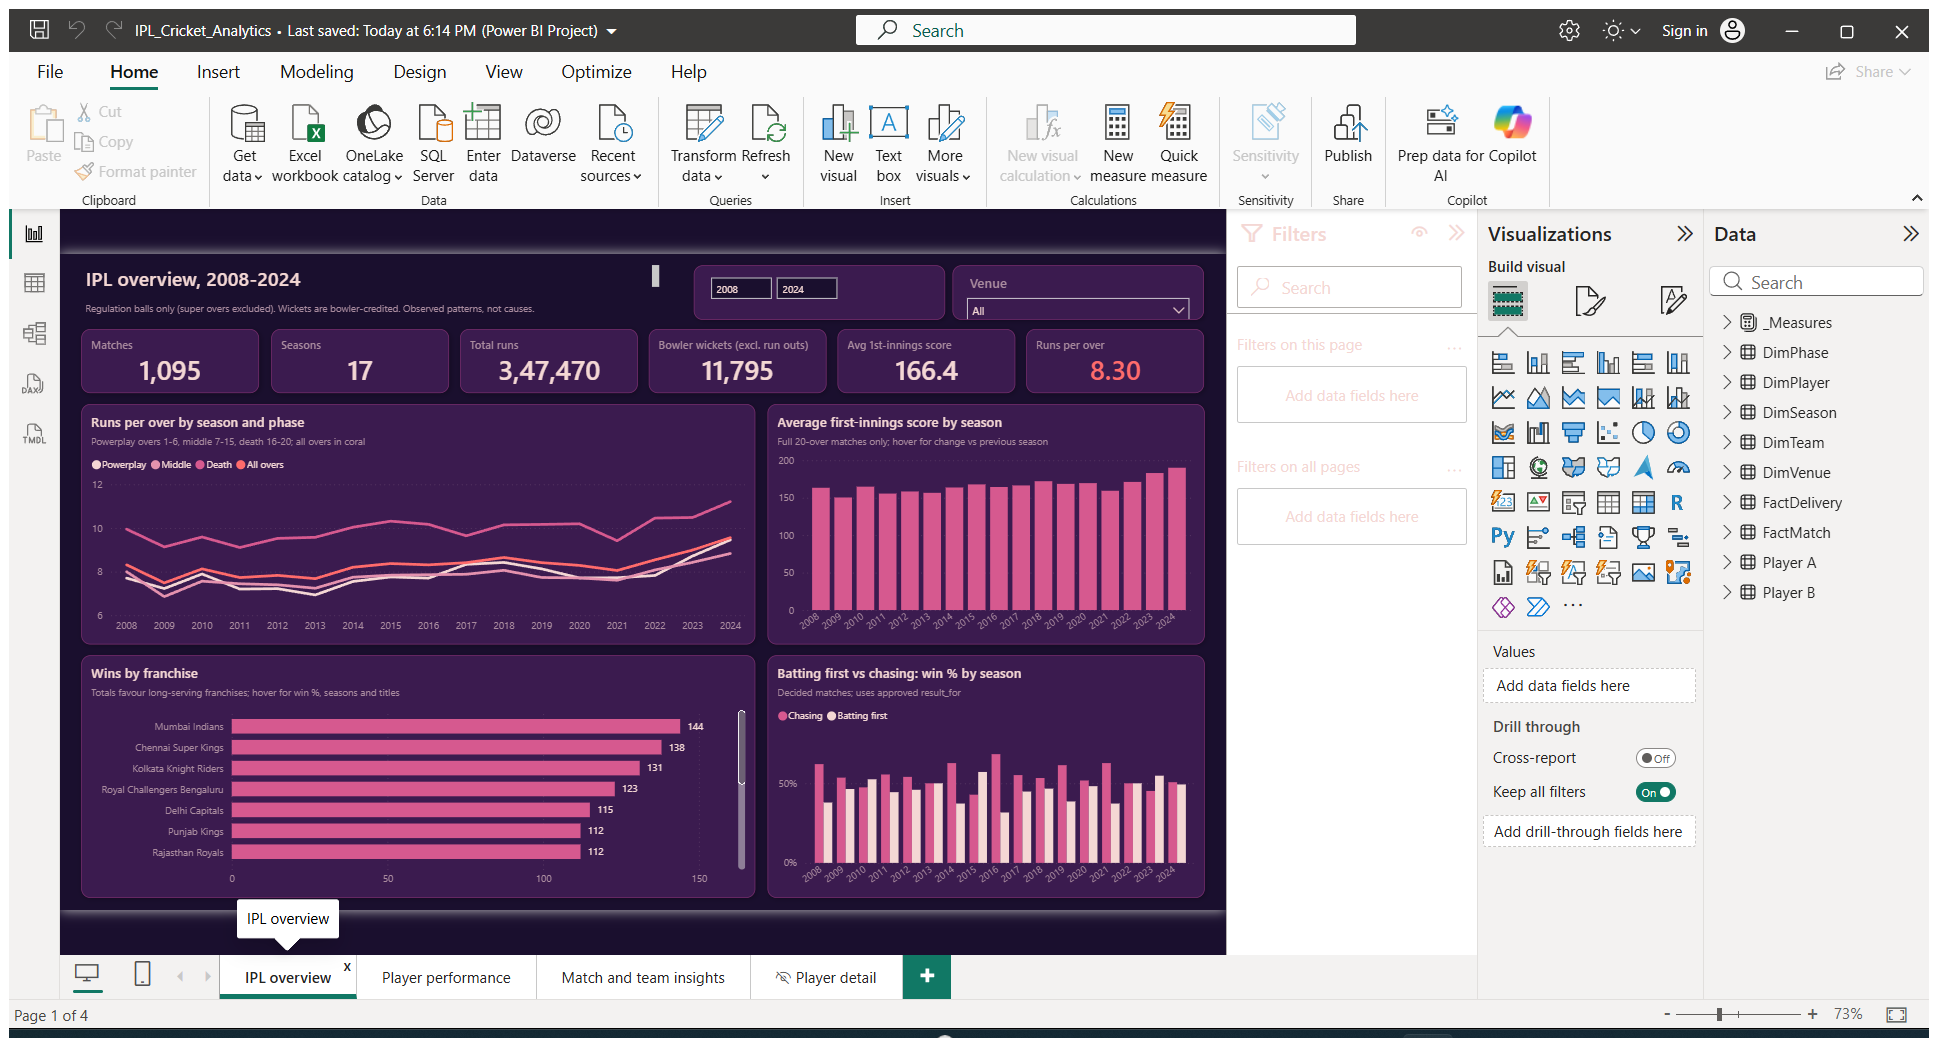

Layout of this report page (visuals, bound fields, positions):
{"tool":"powerbi","page":{"name":"IPL overview","canvas":[1280,720],"ordinal":0},"visuals":[{"type":"textbox","box":[18,4,650,42],"z":100},{"type":"textbox","box":[18,42,664,34],"z":200},{"type":"slicer","fields":{"Values":["DimSeason.Season"]},"box":[696,12,276,60],"z":300},{"type":"slicer","fields":{"Values":["DimVenue.Venue"]},"box":[980,12,276,60],"z":400},{"type":"card","title":"Matches","fields":{"Values":["_Measures.Matches"]},"box":[24,82,195.3,70],"z":500},{"type":"card","title":"Seasons","fields":{"Values":["_Measures.Seasons"]},"box":[231.3,82,195.3,70],"z":600},{"type":"card","title":"Total runs","fields":{"Values":["_Measures.Total Runs"]},"box":[438.7,82,195.3,70],"z":700},{"type":"card","title":"Bowler wickets (excl. run outs)","fields":{"Values":["_Measures.Bowler Wickets"]},"box":[646,82,195.3,70],"z":800},{"type":"card","title":"Avg 1st-innings score","fields":{"Values":["_Measures.Avg First Innings"]},"box":[853.3,82,195.3,70],"z":900},{"type":"card","title":"Runs per over","fields":{"Values":["_Measures.Run Rate"]},"box":[1060.7,82,195.3,70],"z":1000},{"type":"lineChart","title":"Runs per over by season and phase","fields":{"Category":["DimSeason.Season"],"Y":["_Measures.Run Rate Powerplay","_Measures.Run Rate Middle","_Measures.Run Rate Death","_Measures.Run Rate"]},"box":[24,164,740,264],"z":1100},{"type":"clusteredColumnChart","title":"Average first-innings score by season","fields":{"Category":["DimSeason.Season"],"Y":["_Measures.Avg First Innings"]},"box":[776,164,480,264],"z":1200},{"type":"clusteredBarChart","title":"Wins by franchise","fields":{"Category":["DimTeam.Franchise"],"Y":["_Measures.Wins"]},"box":[24,440,740,266],"z":1300},{"type":"clusteredColumnChart","title":"Batting first vs chasing: win % by season","fields":{"Category":["DimSeason.Season"],"Y":["_Measures.Chasing Win %","_Measures.Batting First Win %"]},"box":[776,440,480,266],"z":1400}]}

Visuals, with their boxes on the page's 1280x720 design canvas (x1, y1, x2, y2). These are canvas units, not pixel positions in the 1938x1038 screenshot, which may show the page scaled, cropped or inside an application window:
textbox: [18, 4, 668, 46]
textbox: [18, 42, 682, 76]
slicer - DimSeason.Season: [696, 12, 972, 72]
slicer - DimVenue.Venue: [980, 12, 1256, 72]
"Matches" card: [24, 82, 219, 152]
"Seasons" card: [231, 82, 427, 152]
"Total runs" card: [439, 82, 634, 152]
"Bowler wickets (excl. run outs)" card: [646, 82, 841, 152]
"Avg 1st-innings score" card: [853, 82, 1049, 152]
"Runs per over" card: [1061, 82, 1256, 152]
"Runs per over by season and phase" lineChart: [24, 164, 764, 428]
"Average first-innings score by season" clusteredColumnChart: [776, 164, 1256, 428]
"Wins by franchise" clusteredBarChart: [24, 440, 764, 706]
"Batting first vs chasing: win % by season" clusteredColumnChart: [776, 440, 1256, 706]
